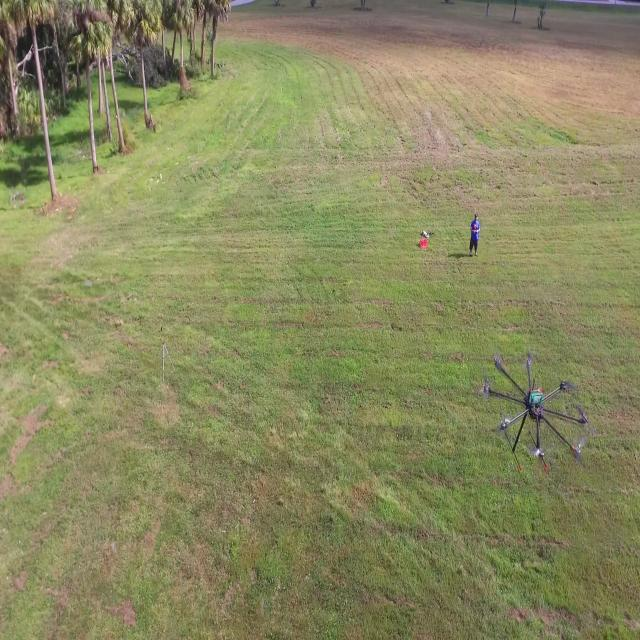drone: (469, 325, 599, 487)
